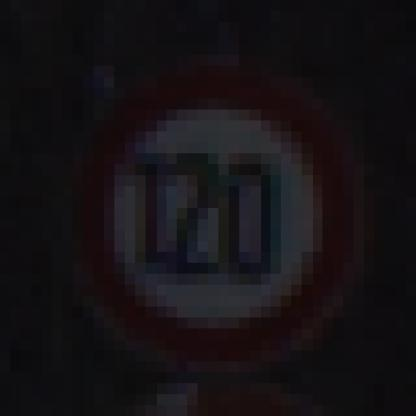Speed Limit 120: (80, 73, 354, 370)
